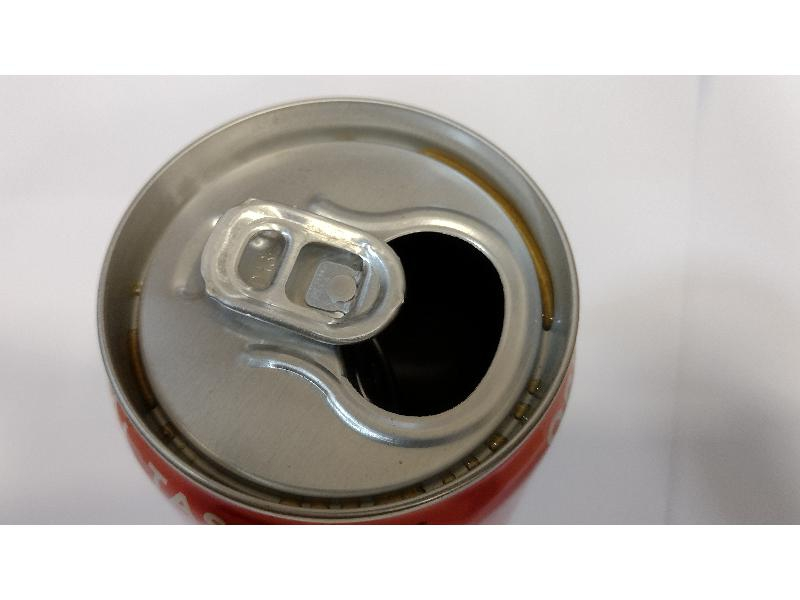can: (93, 96, 581, 521)
